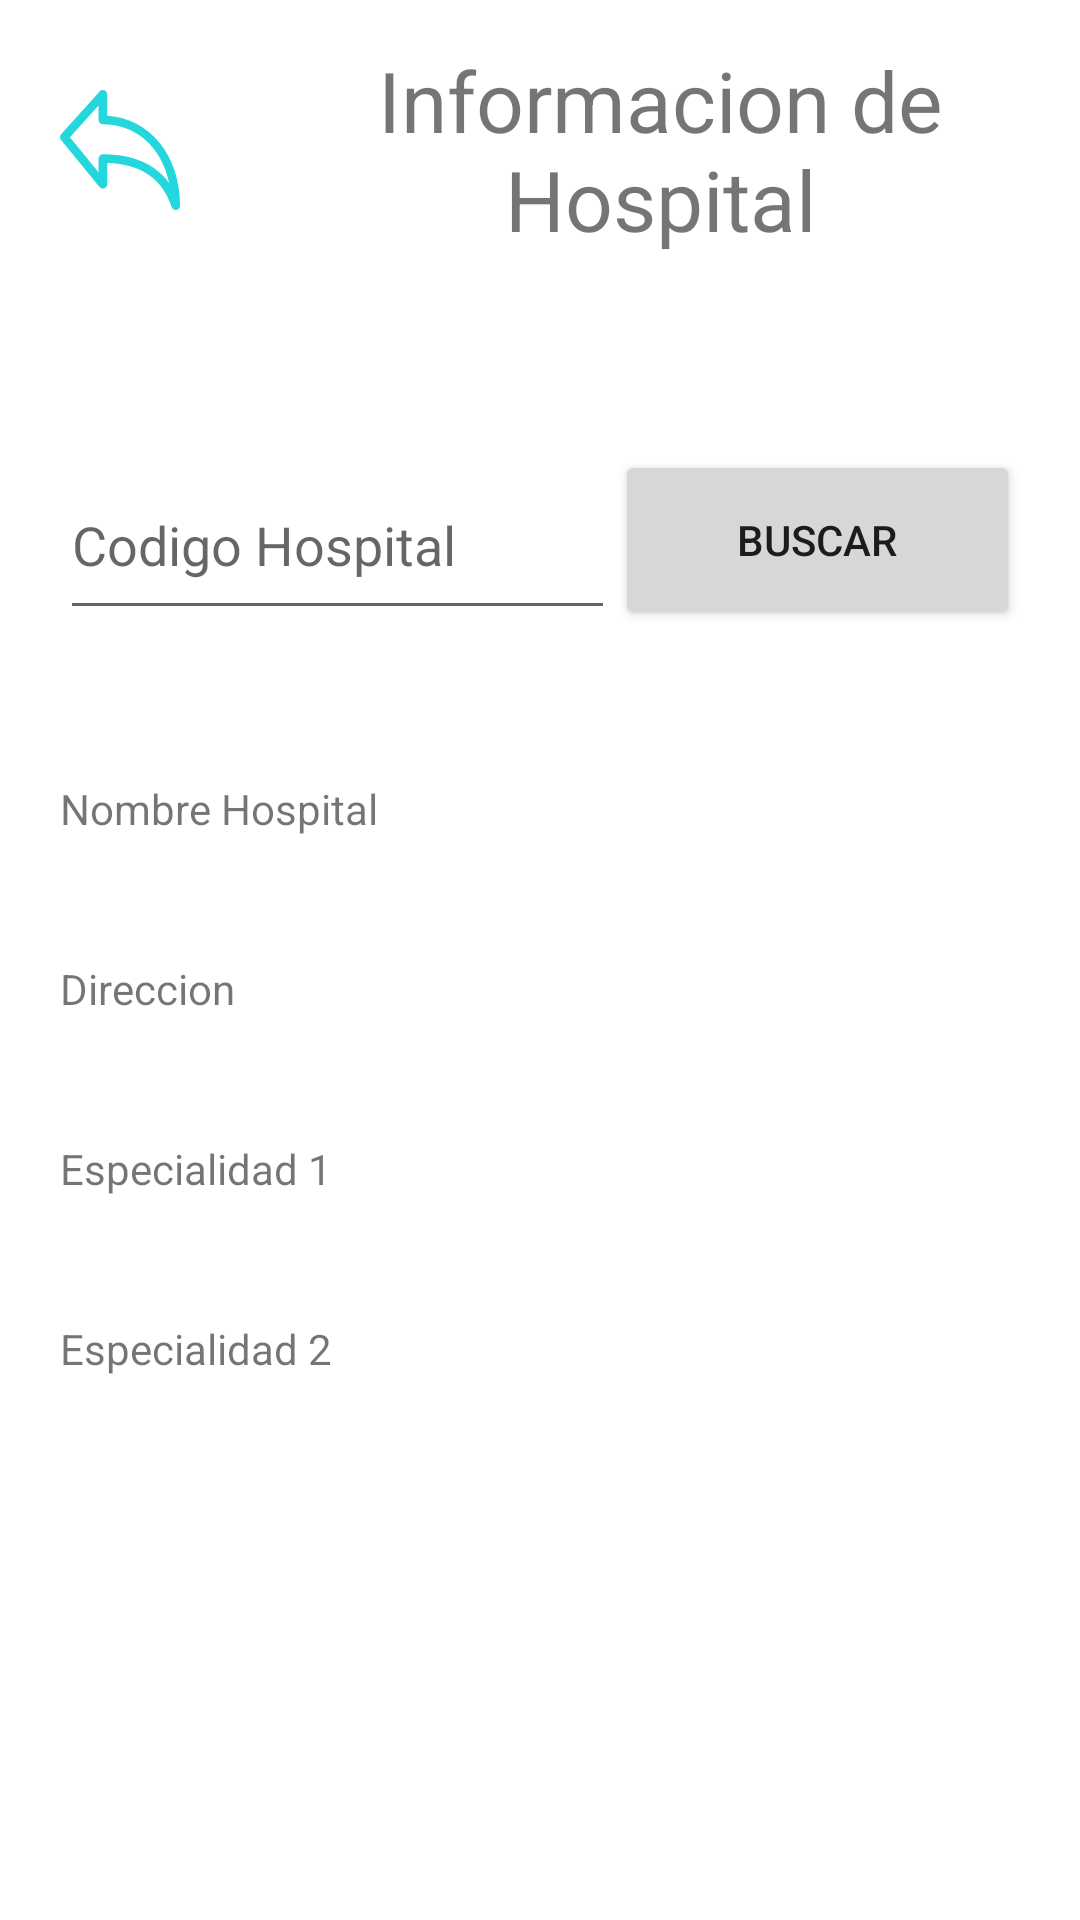

Where icons sit on this 1080px×1920px app screen, as (x1, y1, x2, y2):
atras: (60, 90, 180, 210)
